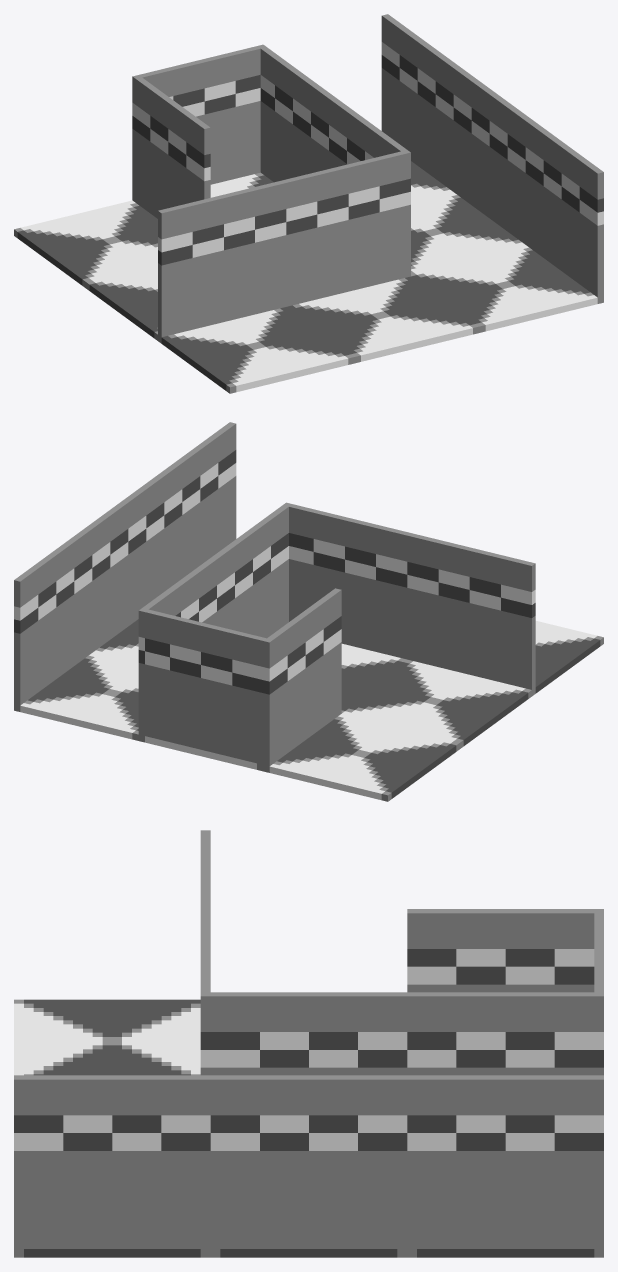
Rendered from level_maze-26.obj.
The picture shows the model from 3 angles, top to bottom: view 1: azimuth 30°, elevation 25°; view 2: azimuth 150°, elevation 25°; view 3: azimuth 270°, elevation 25°; orthographic projection. The views are drawn at different scales.
Parts seen in each view (by area): view 1: level_maze-26; view 2: level_maze-26; view 3: level_maze-26.
Part boxes in pixels (<box>): level_maze-26: <box>14,14,603,393</box>; level_maze-26: <box>14,422,603,801</box>; level_maze-26: <box>14,830,603,1257</box>.
Size of the model in its own units: 60 by 20 by 60.
Materials: 1 (1 with a texture image).
